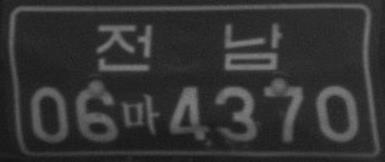0: (314, 84, 360, 143), (30, 84, 69, 144)
3: (213, 85, 258, 142)
4: (168, 84, 210, 141)
6: (74, 85, 120, 145)
7: (262, 84, 304, 143)
마: (122, 92, 161, 135)
전남_D: (95, 20, 283, 73)
